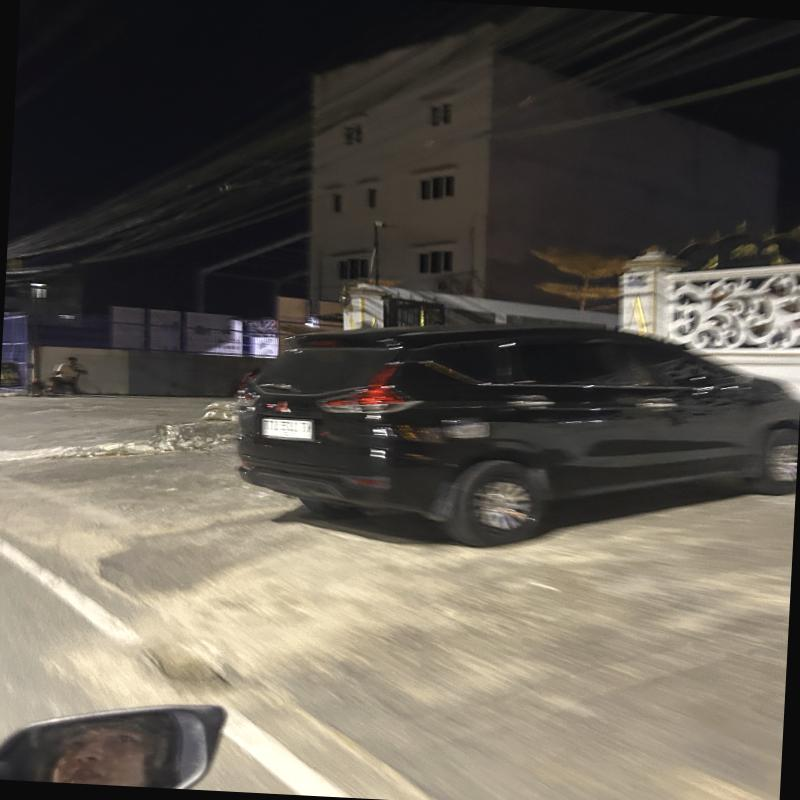license plate on a car: (241, 403, 316, 456)
